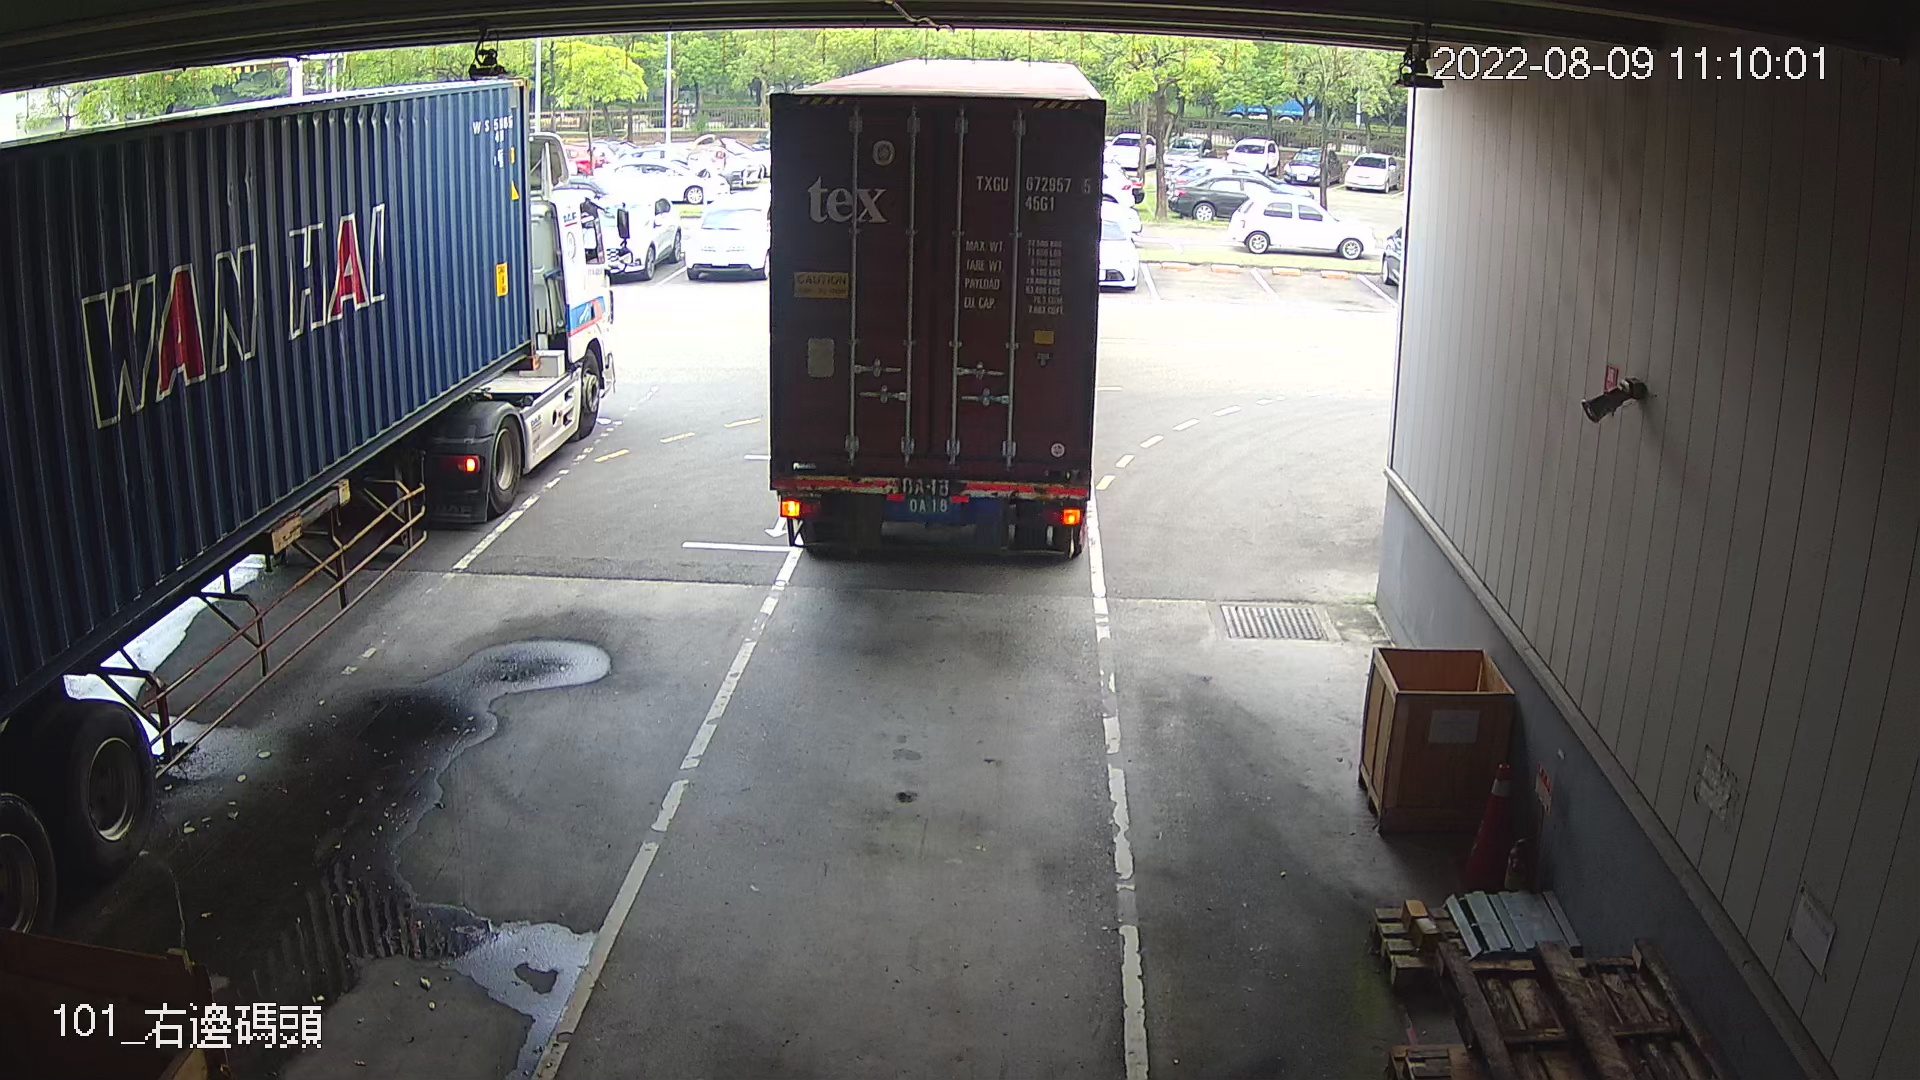container: (969, 167, 1097, 219)
